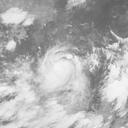cyclone: (41, 47, 83, 93)
